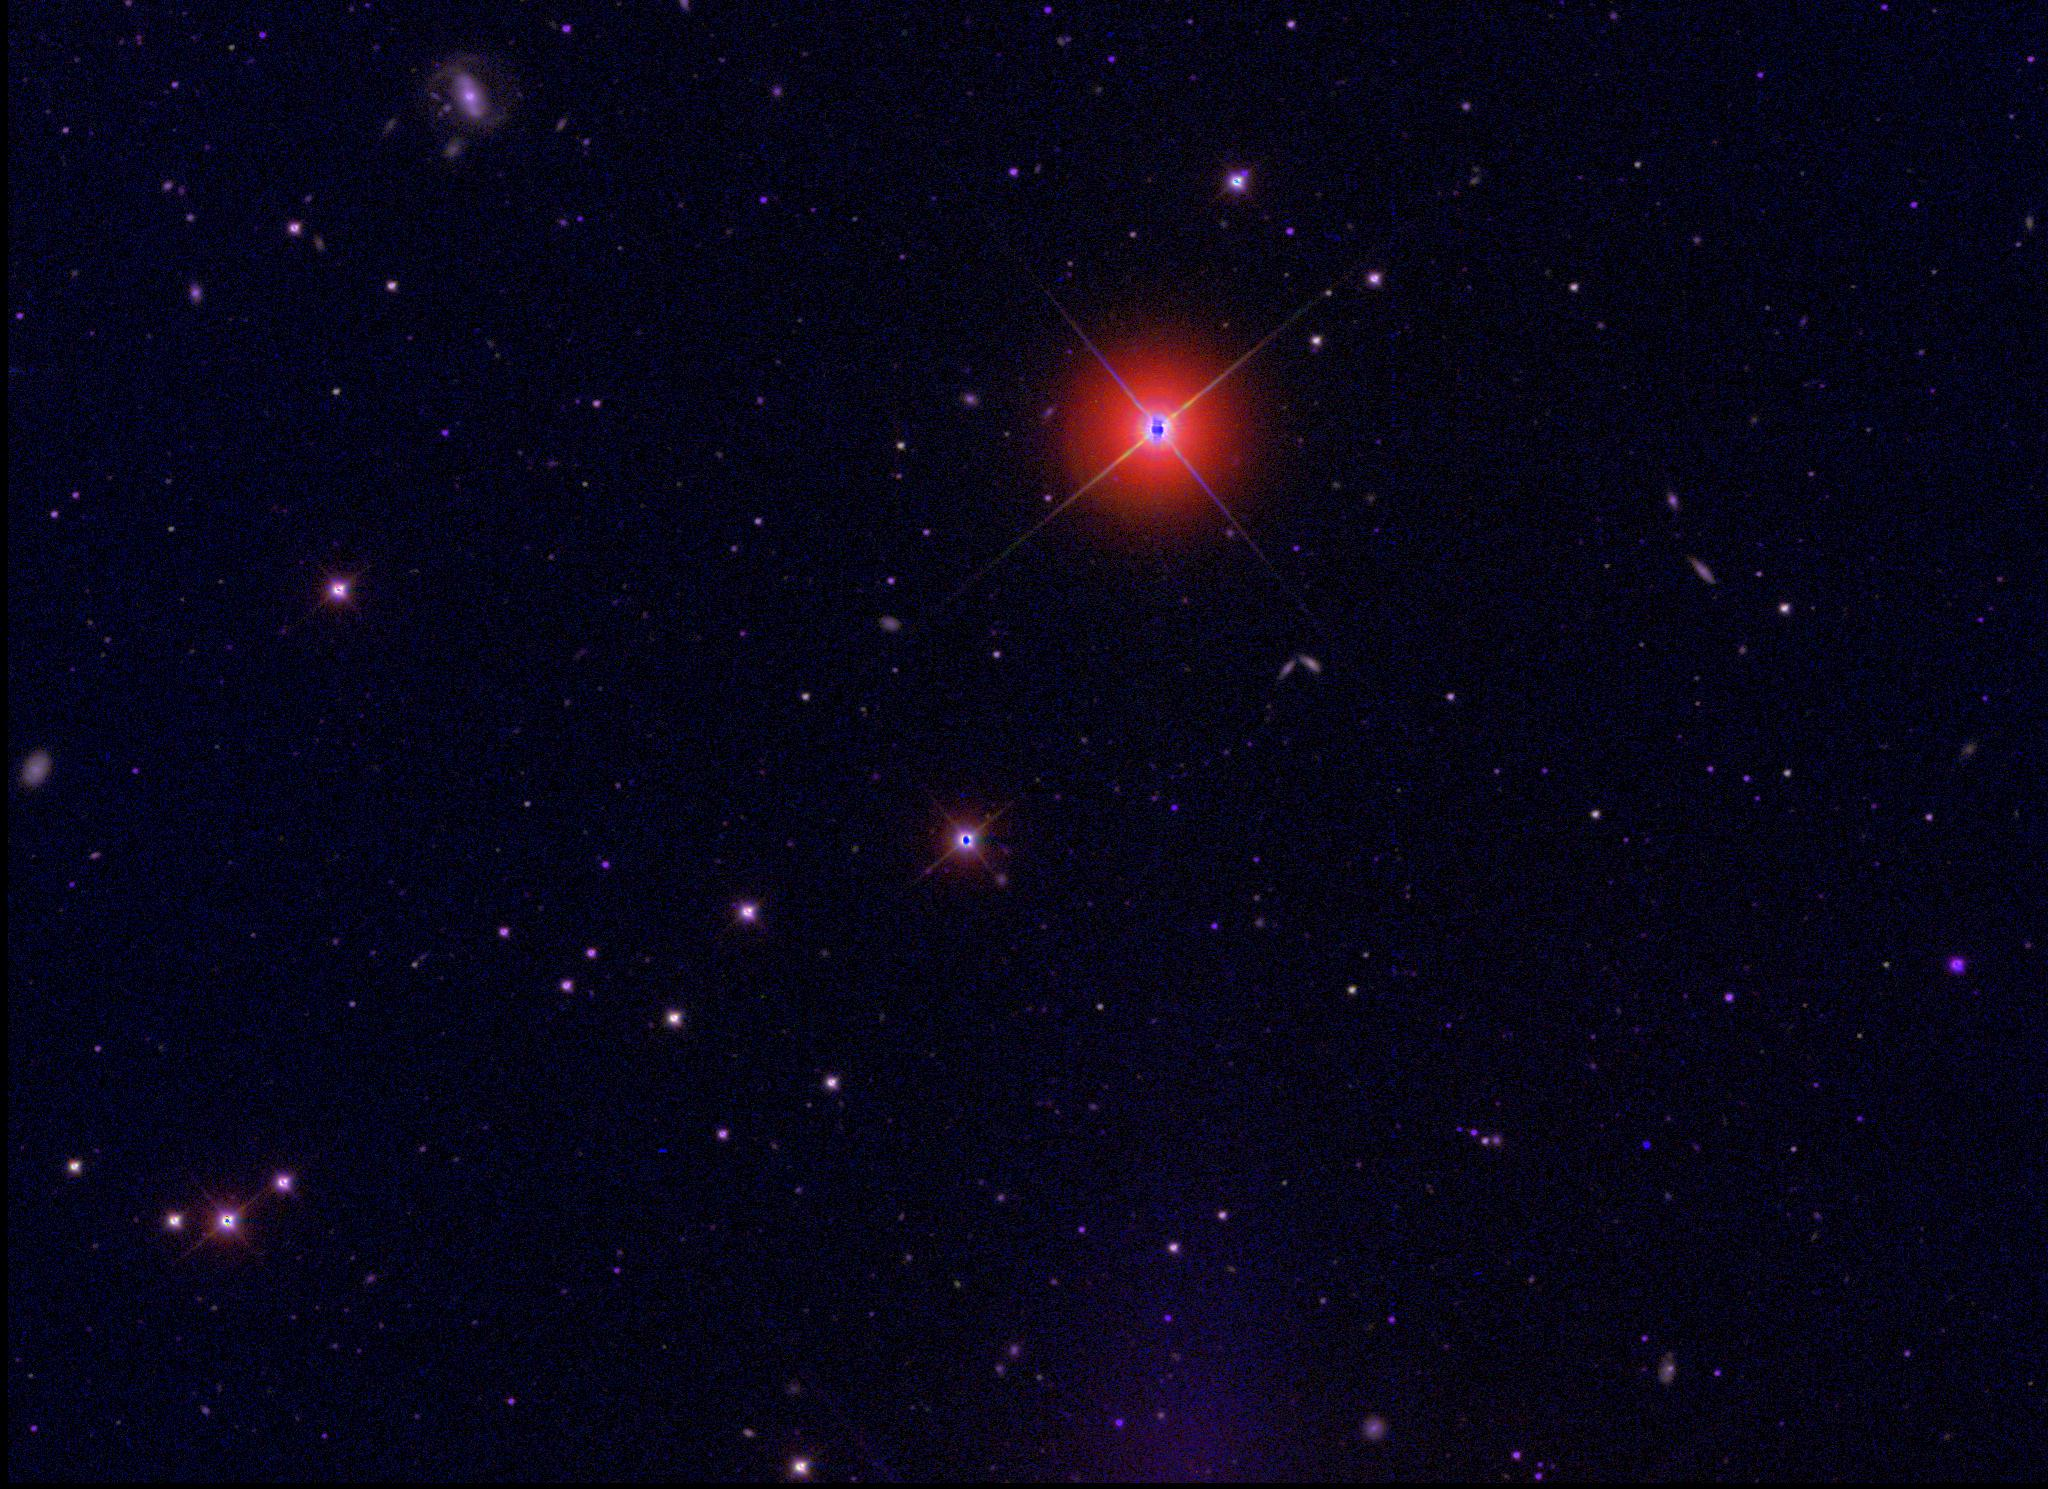L: (1639, 1137, 1654, 1152)
